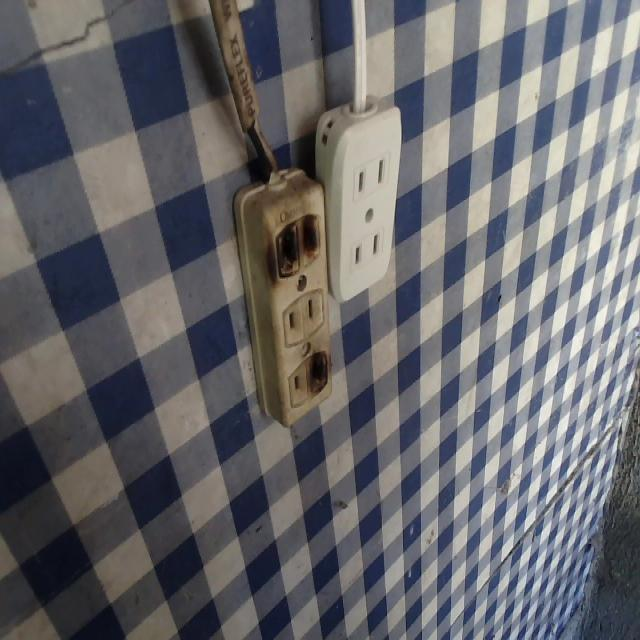-: (264, 213, 325, 276), (303, 346, 333, 402)
